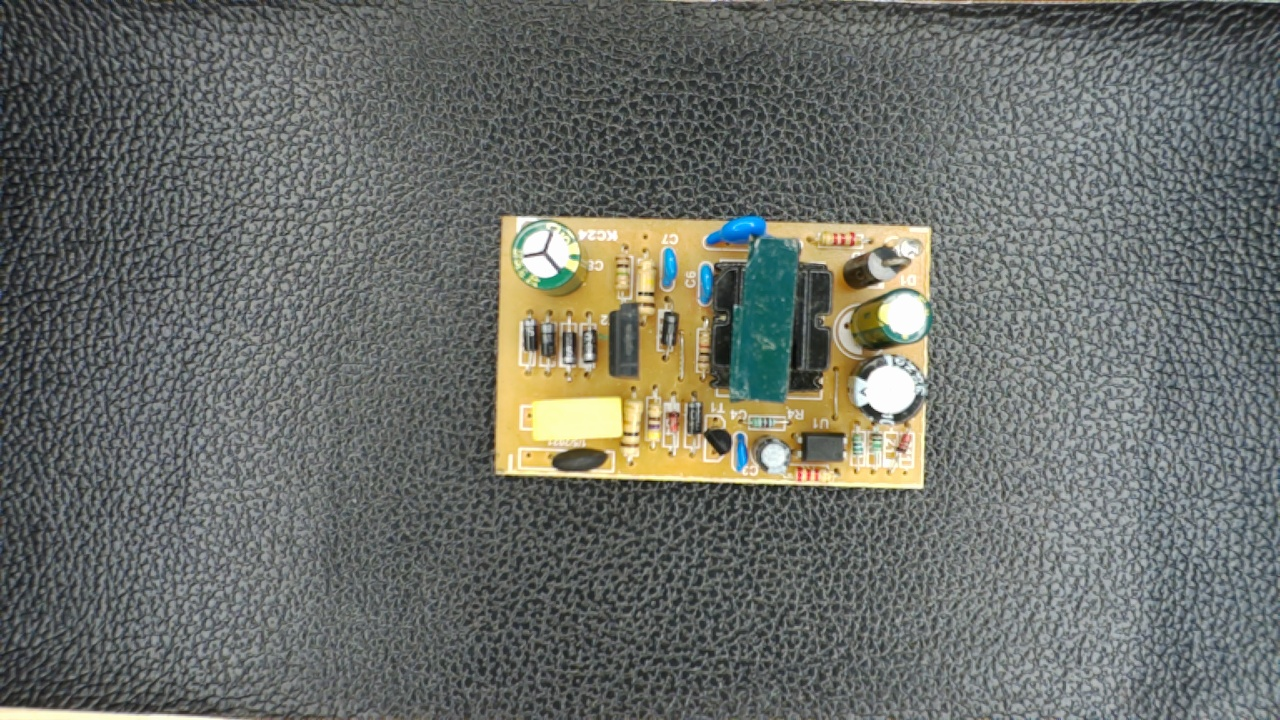fuse: (530, 444, 617, 473)
hv_capacitor: (503, 219, 588, 296)
mov: (695, 216, 771, 251)
optocoupler: (792, 432, 852, 467)
